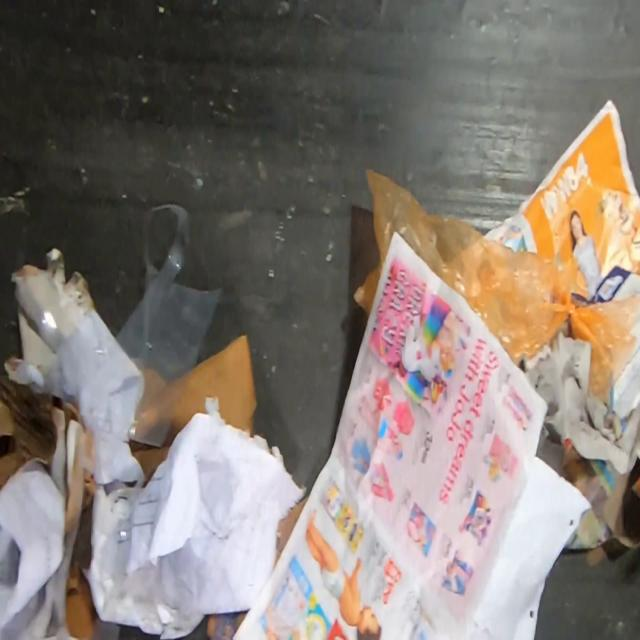cardboard: (128, 330, 258, 486), (9, 246, 98, 367), (0, 374, 58, 497), (48, 399, 98, 535), (65, 506, 98, 640), (277, 495, 306, 560), (204, 609, 250, 640)
soft_plastic: (350, 167, 640, 403), (114, 201, 223, 449)
